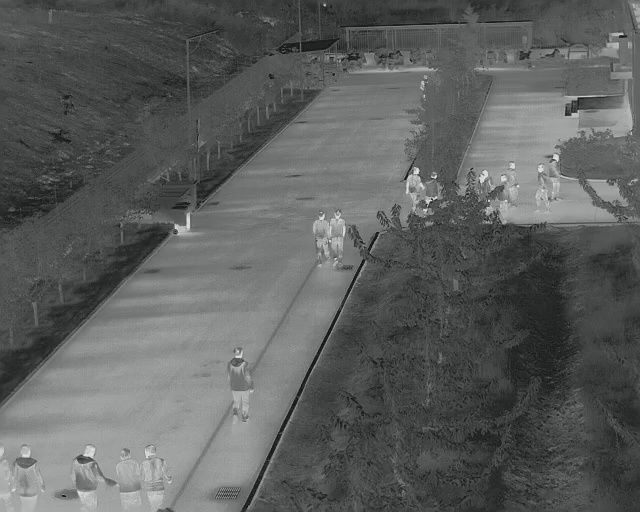person: (67, 443, 116, 510), (11, 445, 51, 509), (226, 345, 257, 424), (139, 442, 173, 508), (116, 445, 143, 509), (329, 206, 349, 268), (313, 208, 331, 267), (548, 152, 565, 203), (532, 162, 548, 211), (506, 159, 521, 208), (405, 164, 424, 201), (475, 169, 493, 197), (423, 171, 440, 200)
